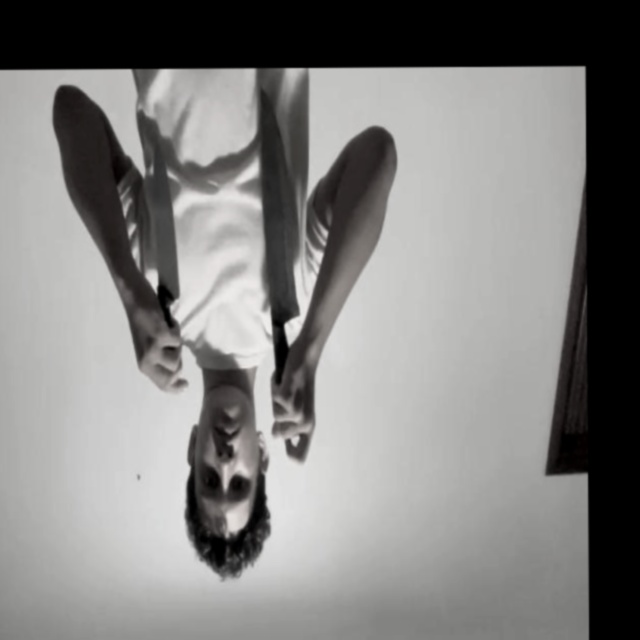Sharp-Object: (259, 91, 301, 323), (152, 142, 181, 300)
